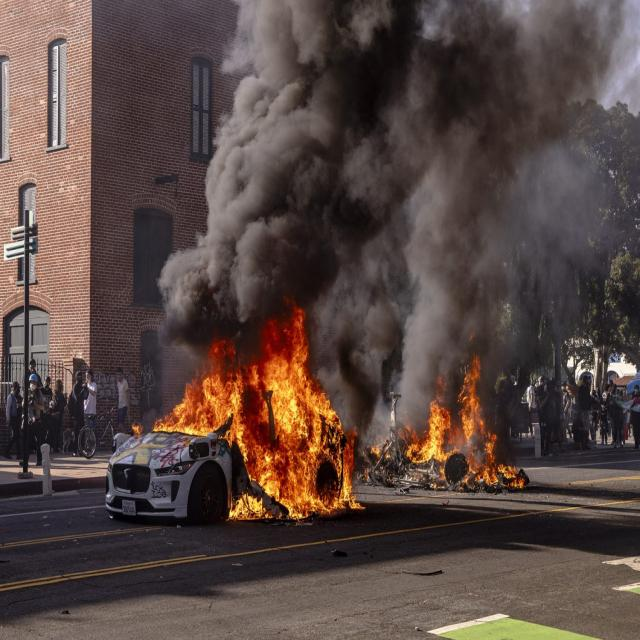fire: (237, 292, 310, 432), (425, 354, 497, 493), (153, 335, 236, 436), (310, 375, 366, 516), (226, 433, 311, 519)
